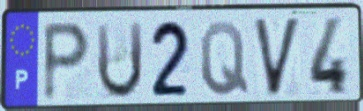2: (149, 16, 195, 104)
4: (307, 15, 353, 98)
P: (40, 20, 93, 106)
Q: (198, 19, 251, 100)
U: (94, 19, 145, 103)
V: (250, 15, 304, 100)
